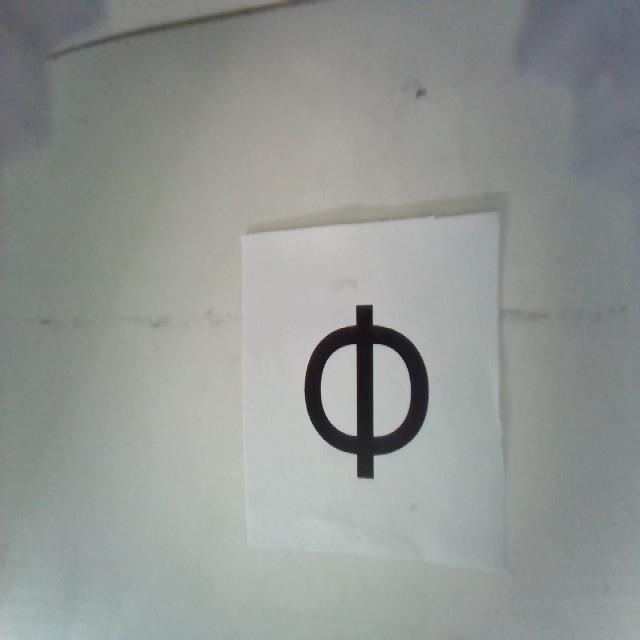F: (302, 305, 431, 469)
